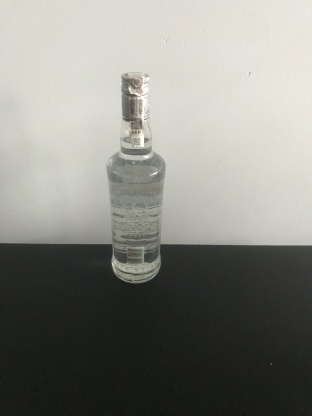nakretka: (119, 70, 151, 123)
